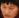without_mask: (1, 2, 19, 18)
